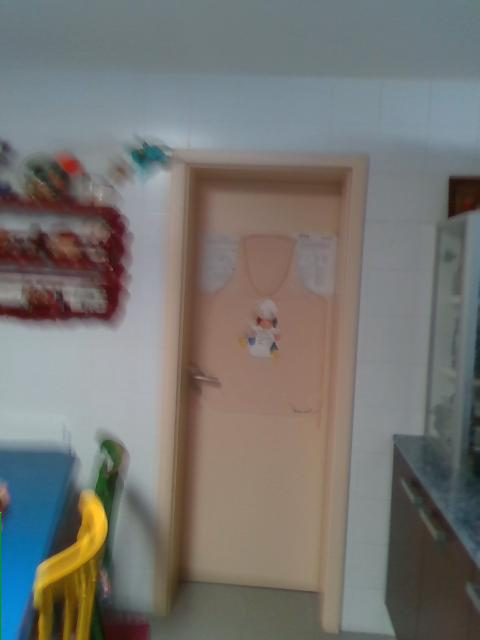closed_door: (151, 142, 372, 633)
